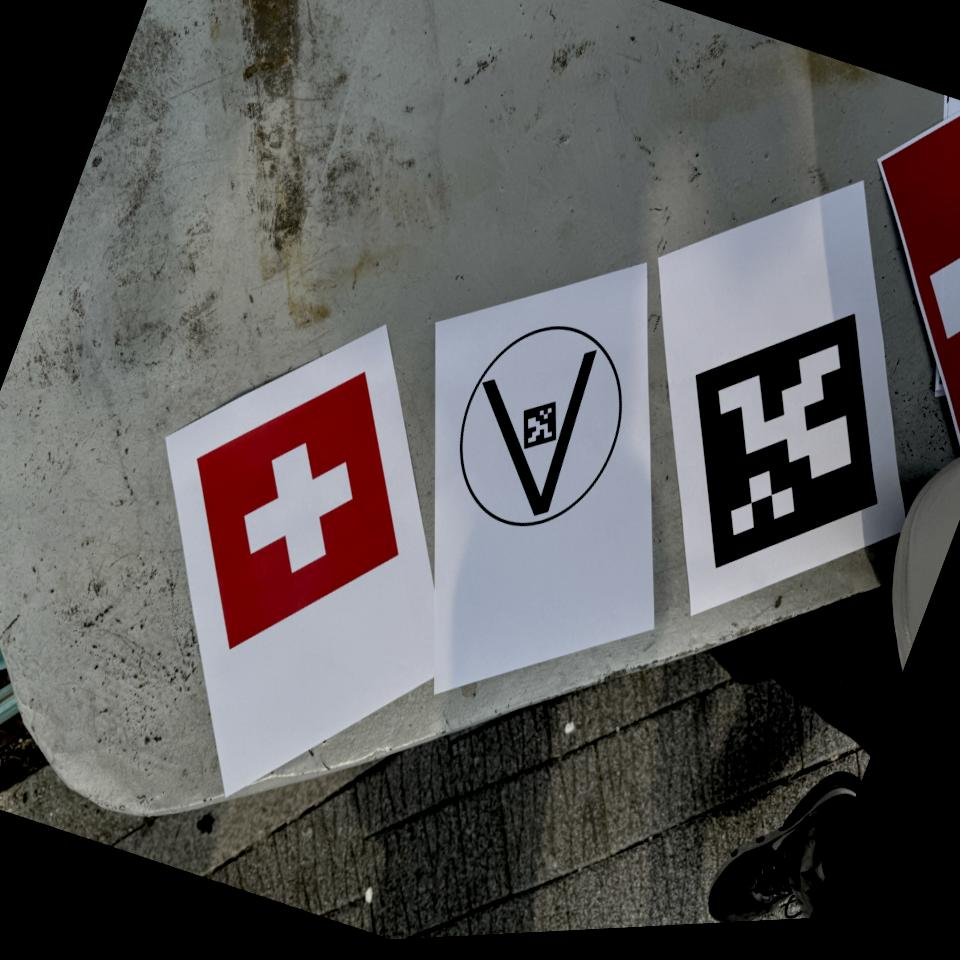ArUro mark: (687, 299, 888, 582)
rescue point: (182, 360, 403, 665)
vertiport: (426, 293, 654, 565)
